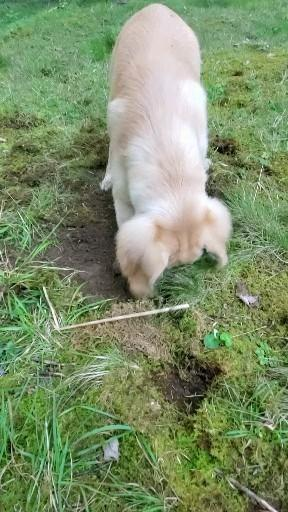puppy-dog: (98, 3, 234, 299)
